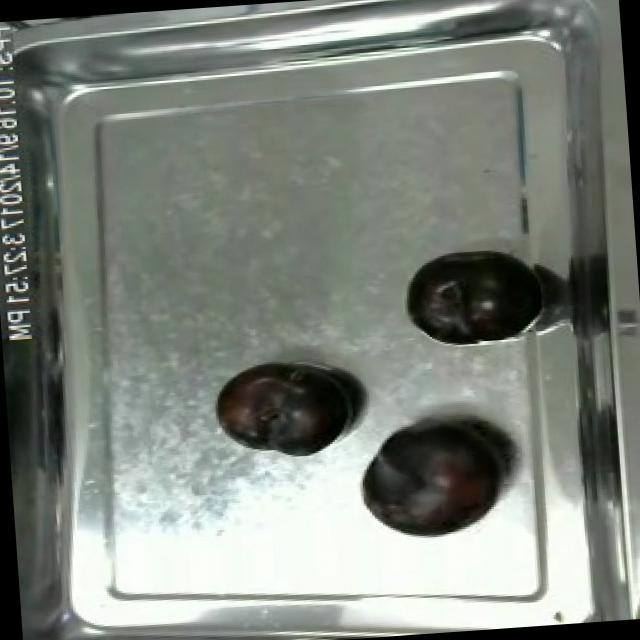Fruit: (352, 414, 509, 546), (206, 352, 359, 464), (395, 242, 545, 350), (621, 573, 640, 619)
